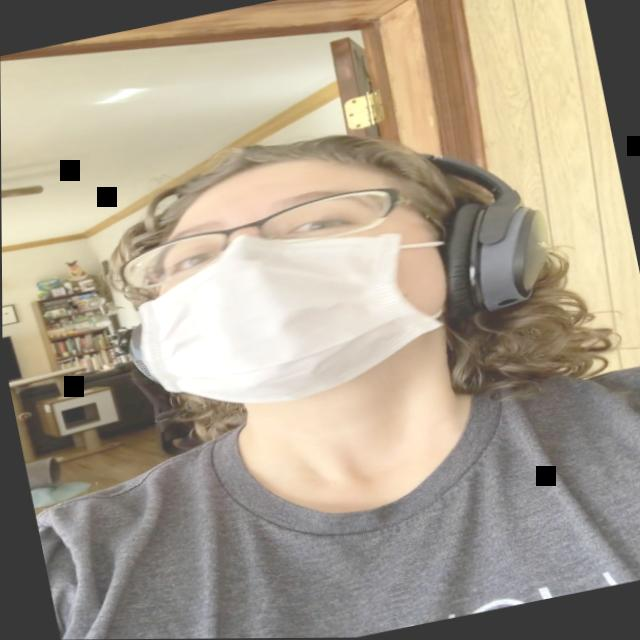Mask: (103, 134, 478, 430)
